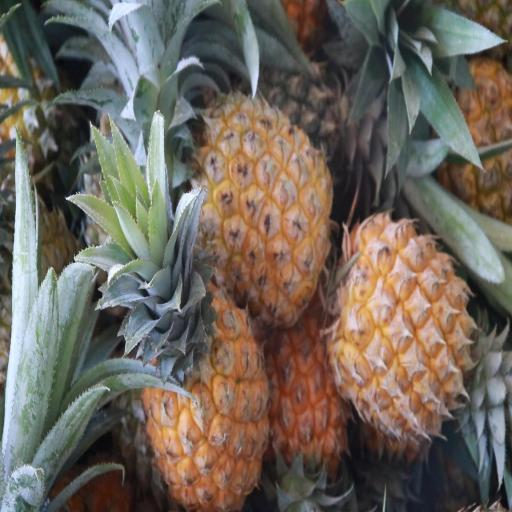Pineapple - v8 v1: (144, 240, 271, 508), (332, 208, 476, 444), (191, 86, 333, 324), (266, 294, 350, 505)
